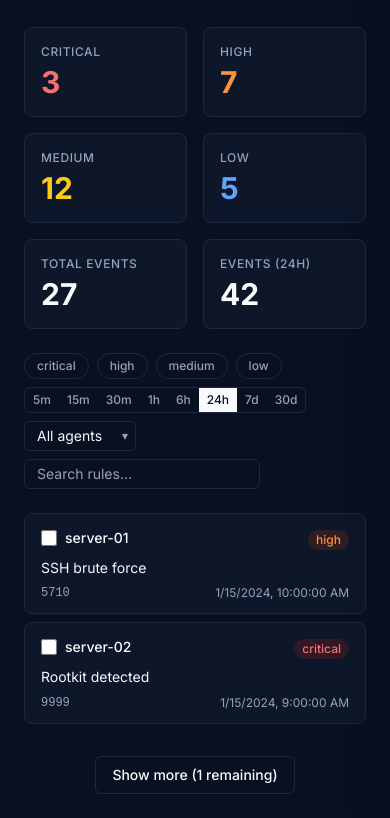
Test case: FleetEventsPage › show more button appends next page of events
The width and height of the screenshot is (390, 818).
(page scrolled)
Check: the text "SSH brute force" is shown, box top-left (41, 559), bottom-right (146, 576)
What coordinates should you click on to do the following:
click the button "Show more (1 remaining)"
I would click on:
 (195, 774)
Its box is top-left (95, 756), bottom-right (295, 794).
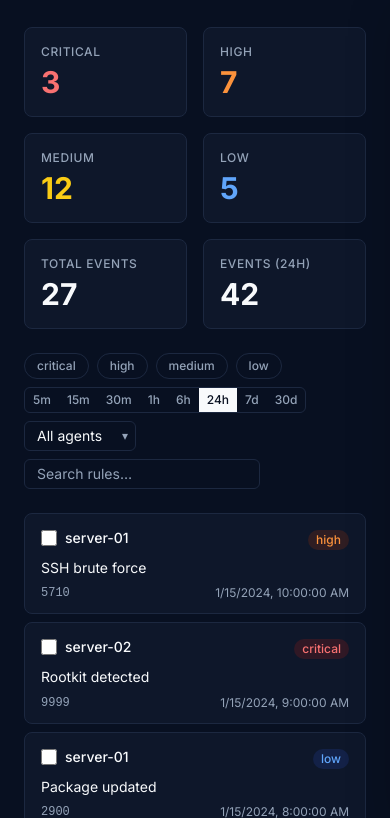
Check: the text "SSH brute force" is shown, box top-left (41, 559), bottom-right (146, 576)
Check: the text "Package updated" is shown, box top-left (41, 778), bottom-right (156, 794)
